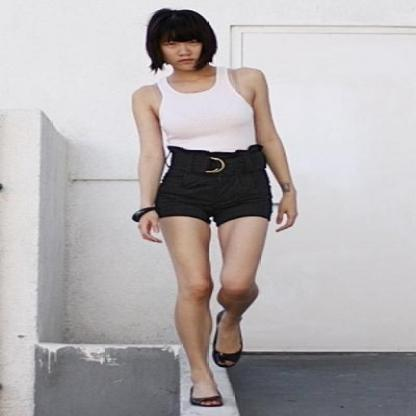shirt: (159, 75, 256, 156)
shoe: (191, 341, 244, 406)
shorts: (137, 141, 277, 224)
